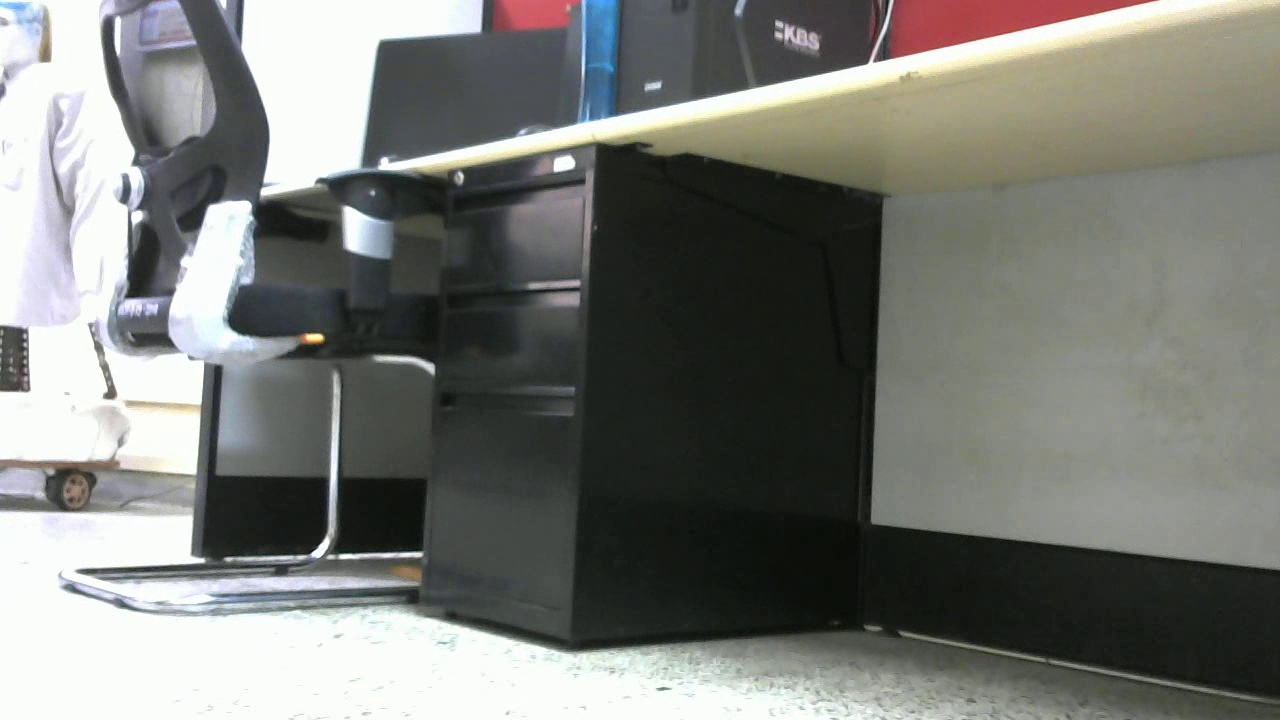chair: (62, 1, 448, 609)
